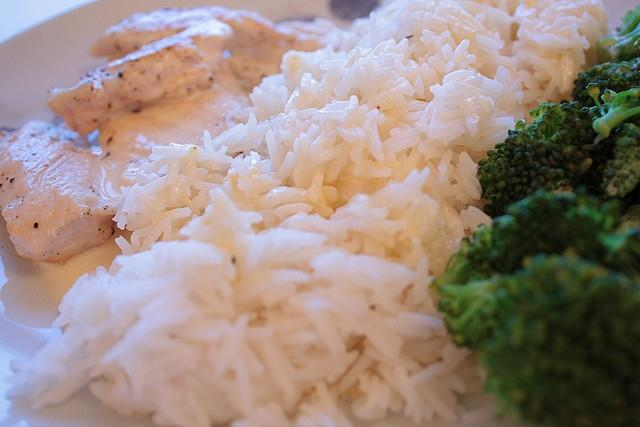broccoli: (596, 22, 640, 64)
